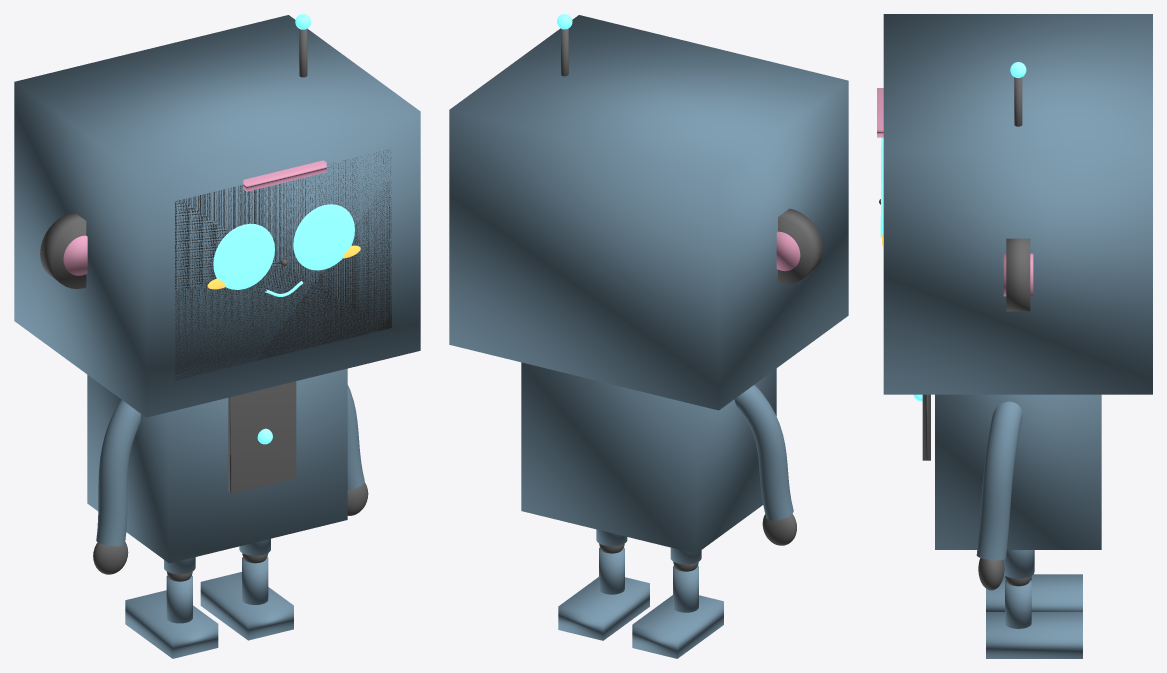
File: doraemon.glb
3 views of the same model, side by side, from view 1: azimuth 30°, elevation 25°; view 2: azimuth 150°, elevation 25°; view 3: azimuth 270°, elevation 25° (orthographic). The views are drawn at different scales.
Parts seen in each view (by area): view 1: Cube, Cube.004, Cube.001, Cube.005, Arm_-1, Cube.007, Cube.006, Sphere.001, Sphere, Cylinder.006, Arm_1, Cylinder.003 (+4 smaller); view 2: Cube, Cube.004, Arm_-1, Cube.007, Cube.006, Cylinder.006, Cylinder.001, Cylinder.003, Hand_-1, Cylinder.007; view 3: Cube, Cube.004, Arm_1, Cube.006, Cube.007, Cylinder.004, Cylinder.001, Cylinder, Hand_1, Cube.005, Cylinder.008.
Boxes of the visible parts, x1,y1,x2,y2 form: Cube: [14, 15, 420, 417]; Cube.004: [87, 368, 347, 563]; Cube.001: [175, 150, 391, 380]; Cube.005: [228, 381, 296, 493]; Arm_-1: [96, 399, 140, 546]; Cube.007: [125, 590, 218, 658]; Cube.006: [200, 572, 293, 640]; Sphere.001: [293, 204, 354, 270]; Sphere: [213, 223, 274, 289]; Cylinder.006: [40, 212, 86, 288]; Arm_1: [347, 385, 364, 490]; Cylinder.003: [166, 575, 192, 623]; Cube: [449, 15, 848, 410]; Cube.004: [521, 362, 776, 553]; Arm_-1: [734, 384, 793, 520]; Cube.007: [632, 595, 723, 658]; Cube.006: [558, 577, 649, 640]; Cylinder.006: [778, 208, 823, 284]; Cylinder.001: [599, 547, 624, 594]; Cylinder.003: [673, 565, 698, 612]; Hand_-1: [762, 514, 796, 545]; Cylinder.007: [776, 231, 800, 271]; Cube: [883, 14, 1152, 394]; Cube.004: [935, 394, 1101, 549]; Arm_1: [976, 401, 1022, 560]; Cube.006: [986, 612, 1082, 658]; Cube.007: [986, 574, 1082, 611]; Cylinder.004: [1006, 238, 1030, 311]; Cylinder.001: [1005, 580, 1031, 628]; Cylinder: [1003, 550, 1034, 578]; Hand_1: [978, 558, 1004, 590]; Cube.005: [922, 394, 930, 460]; Cylinder.008: [1014, 77, 1022, 126].
Size of the model in its own units: 3 by 4.99 by 2.05.
